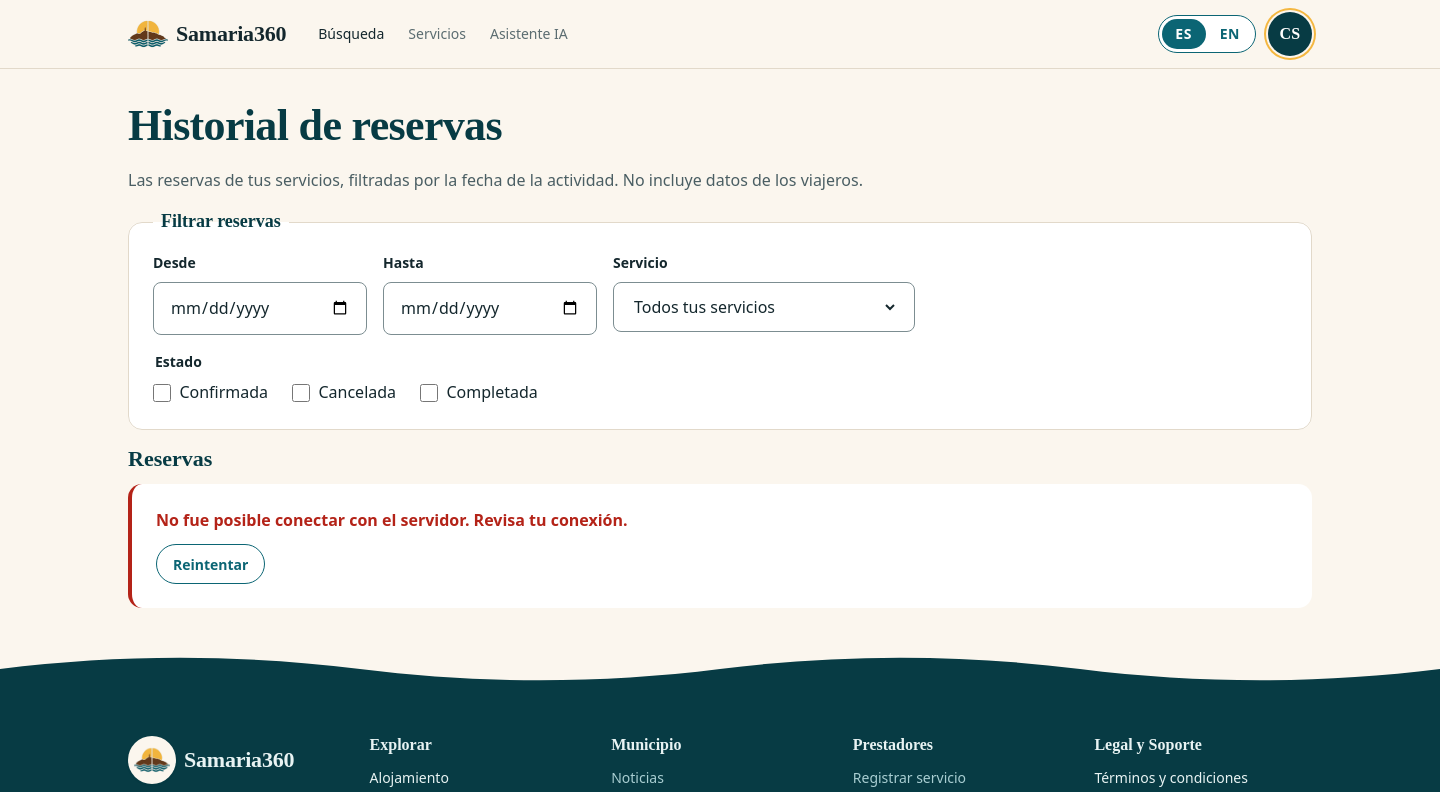
Historial de reservas del Prestador (RF12) › error de red: mensaje y «Reintentar»
The width and height of the screenshot is (1440, 792).
Check: the text "No fue posible conectar con el servidor. Revisa tu conexión." is shown, box x1=156 y1=508 x2=628 y2=532
Click the button "Reintentar" at (211, 564), box x1=156 y1=544 x2=265 y2=584
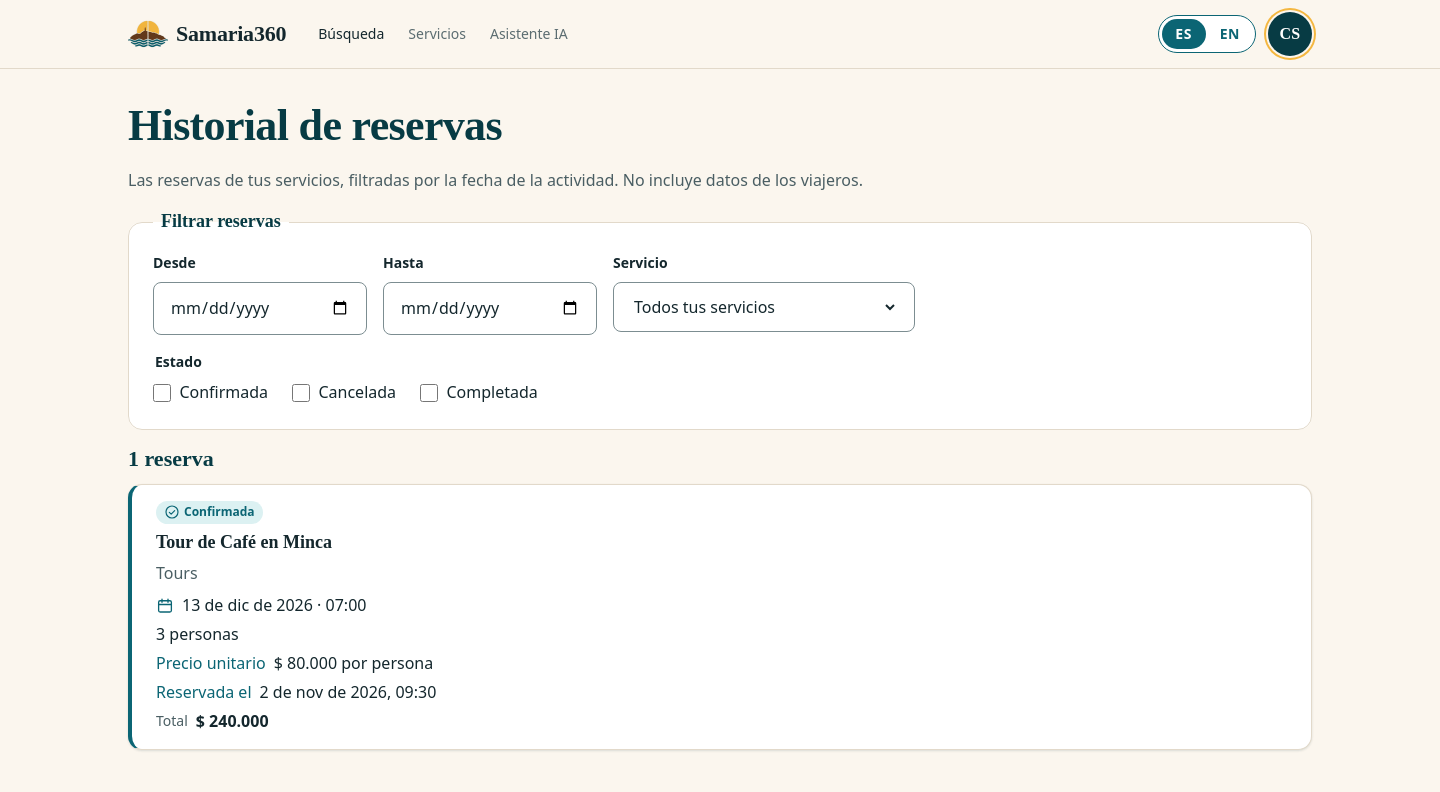
Check: the heading "1 reserva" is shown, box x1=128 y1=446 x2=214 y2=471
